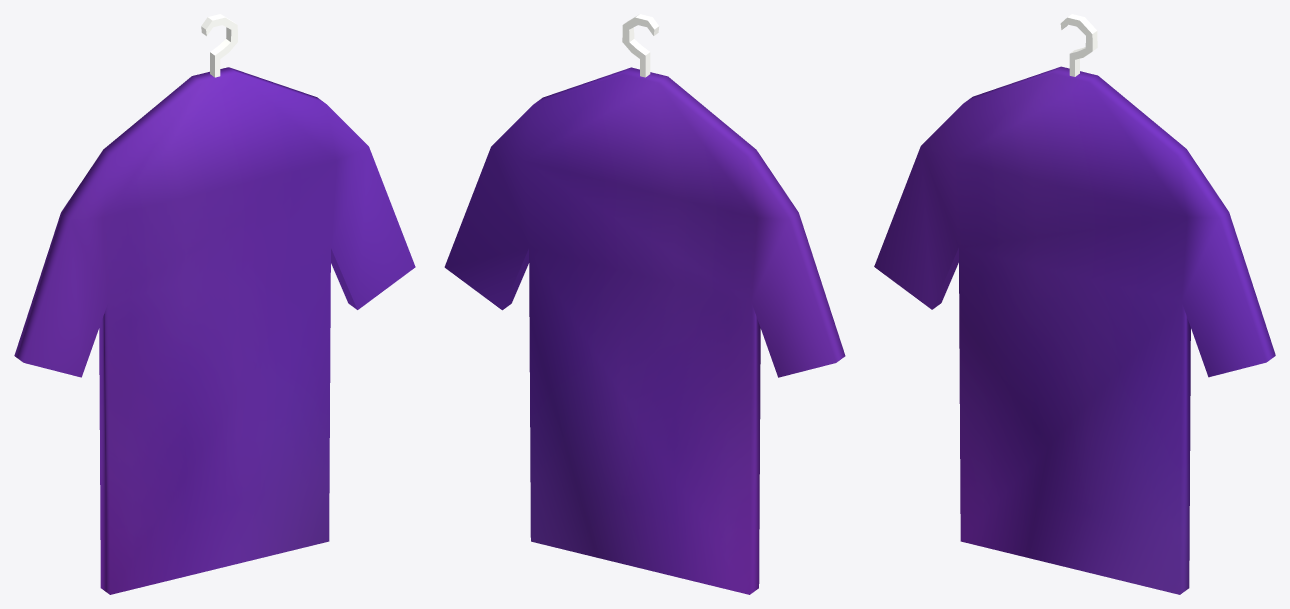
Rendered from ClothingHangerWhiteShirtPurple.glb.
The picture shows the model from 3 angles, left to right: view 1: azimuth 30°, elevation 25°; view 2: azimuth 150°, elevation 25°; view 3: azimuth 330°, elevation 25°; orthographic projection.
Parts seen in each view (by area): view 1: ClothingHangerWhiteShirtPurple; view 2: ClothingHangerWhiteShirtPurple; view 3: ClothingHangerWhiteShirtPurple.
Boxes of the visible parts, <box> form: ClothingHangerWhiteShirtPurple: <box>14,14,415,594</box>; ClothingHangerWhiteShirtPurple: <box>444,14,845,594</box>; ClothingHangerWhiteShirtPurple: <box>874,14,1275,594</box>.
Bounding box in the file's own units: 0.76 × 1.01 × 0.0315.
1 material, 1 textured.
